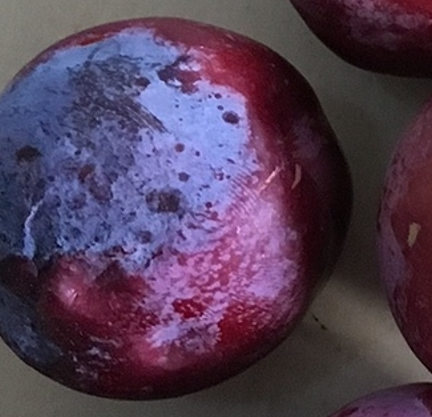plum_B: (1, 16, 354, 400)
